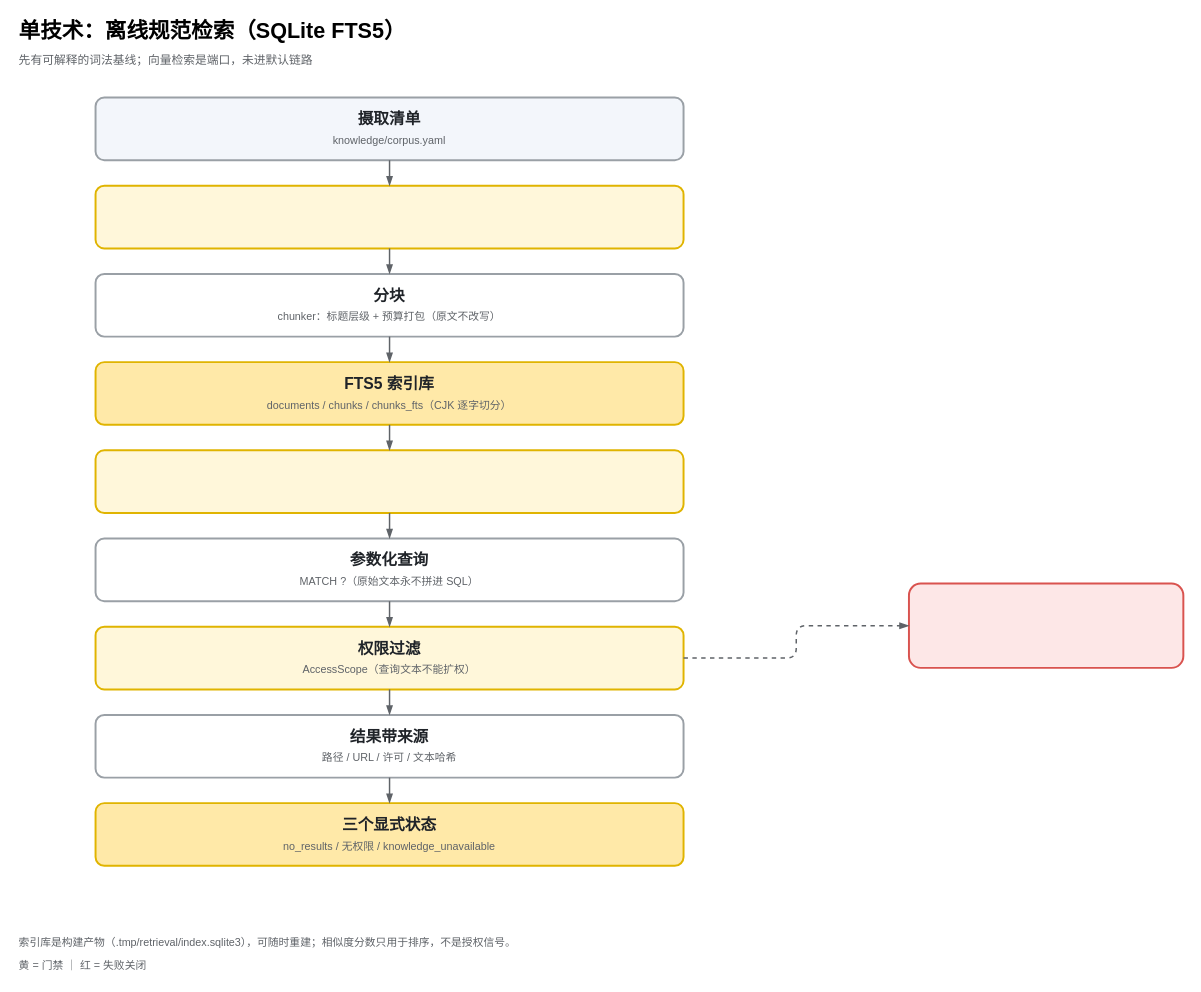
The diagram is 1201 pixels wide and 992 high, and some of its shapes have lost their labels. The shapes that lost their labels are listed below. From the top down, each one's centre as x and y in pixels, then its label:
(x=389, y=216): 镜像哈希校验 manifest.json sha256（漂移 → verify 退出 1）
(x=389, y=481): 查询规范化 query.py：受控词项 + 术语桥接
(x=1045, y=625): 绝不回退模型记忆 不可用时只输出 knowledge_unavailable
